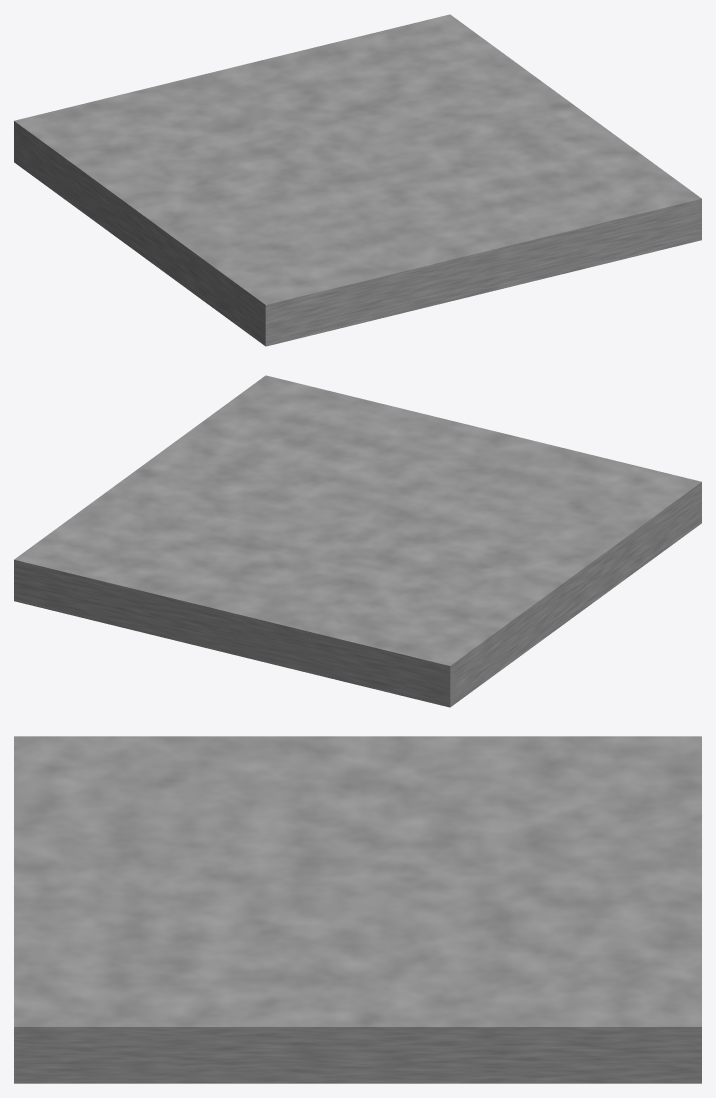
File: floorTile.fbx
3 renders of one model, top to bottom at view 1: azimuth 30°, elevation 25°; view 2: azimuth 150°, elevation 25°; view 3: azimuth 270°, elevation 25°, orthographic. The views are drawn at different scales.
Parts seen in each view (by area): view 1: FloorTile; view 2: FloorTile; view 3: FloorTile.
Part boxes in pixels (x1=…): FloorTile: x1=14, y1=14, x2=701, y2=346; FloorTile: x1=14, y1=375, x2=701, y2=707; FloorTile: x1=14, y1=736, x2=701, y2=1083.
Bounding box in the file's own units: 55 × 5 × 55.
